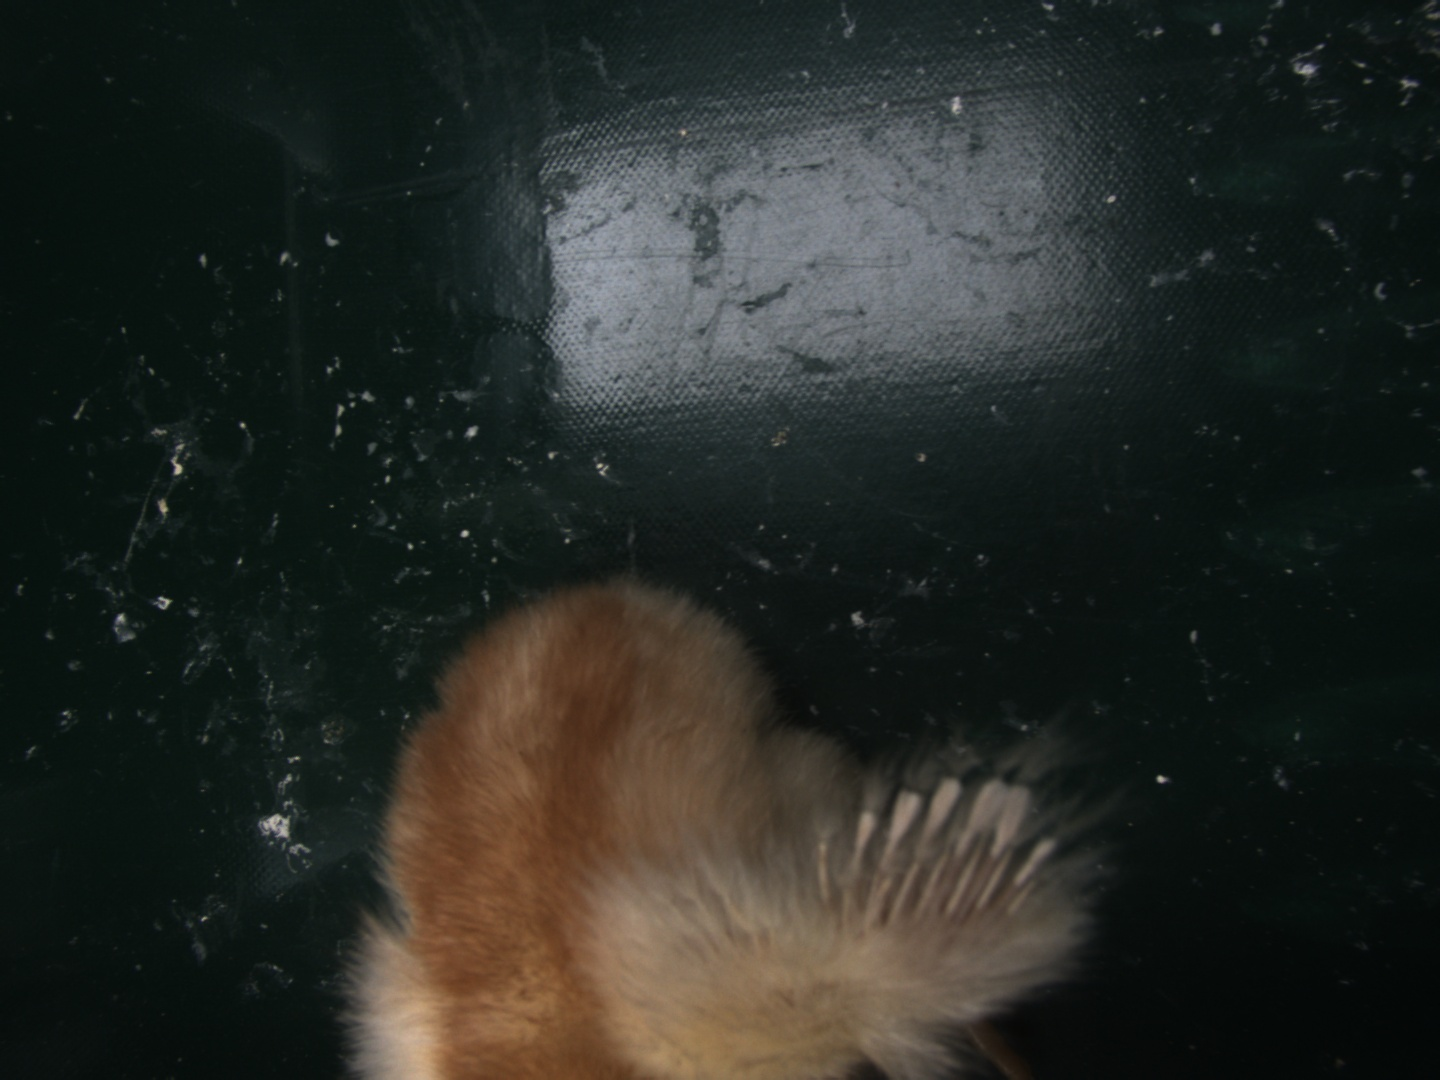female: (814, 773, 1060, 927)
